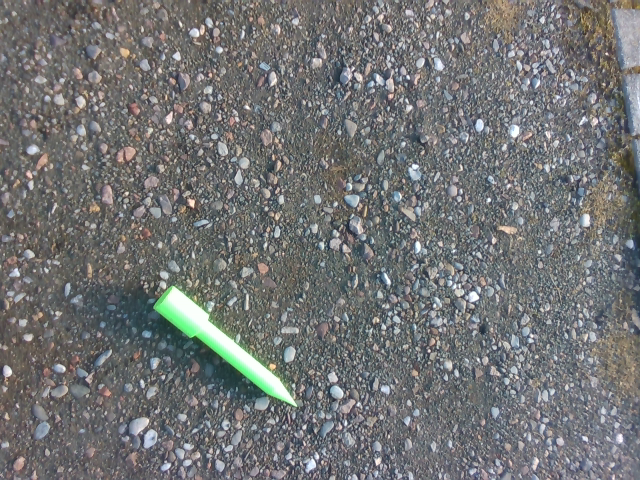Probe: (145, 280, 303, 411)
